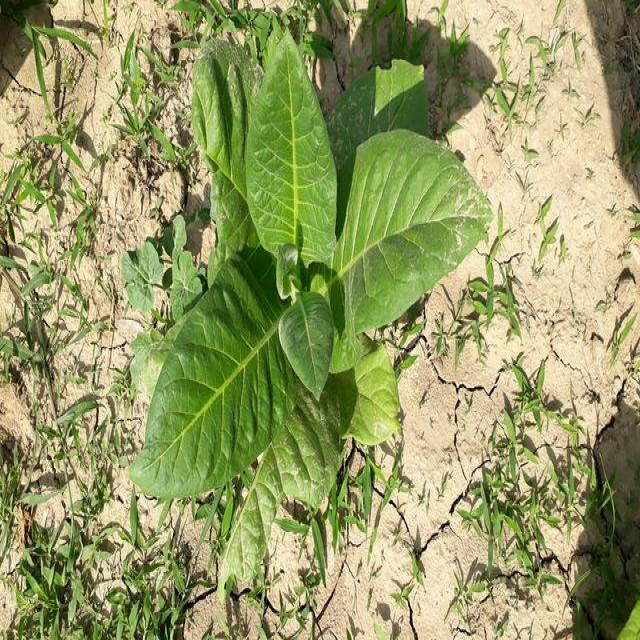crop: (137, 50, 485, 575)
